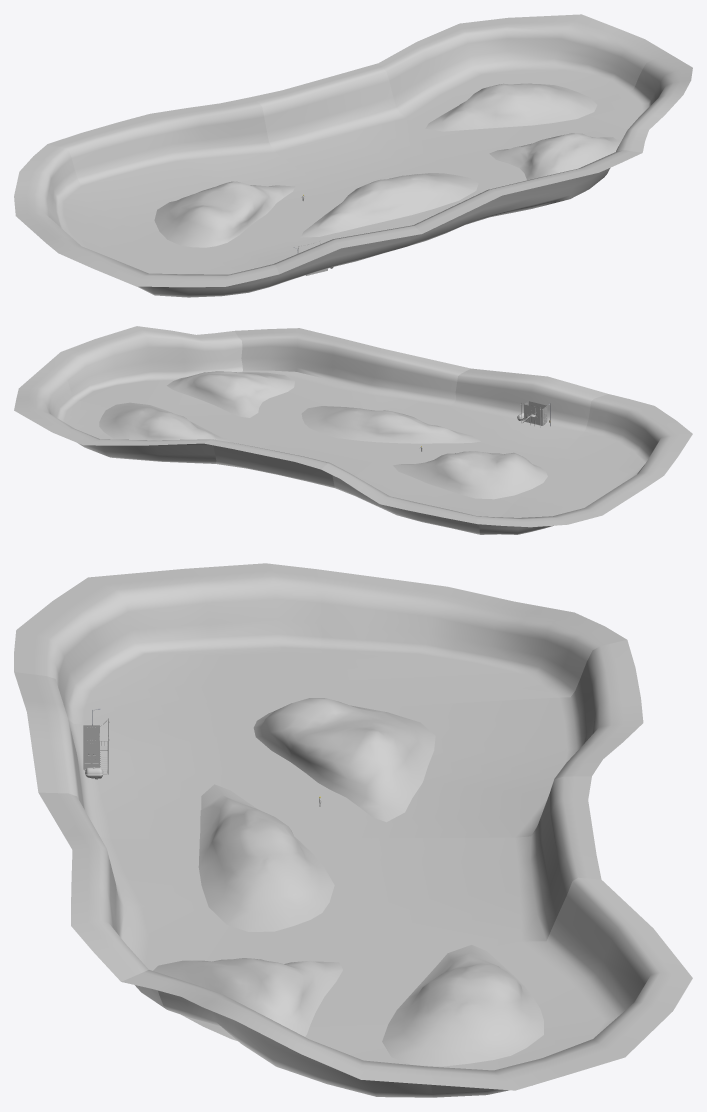
Rendered from Entrenamiento1.fbx.
The picture shows the model from 3 angles, top to bottom: view 1: azimuth 30°, elevation 25°; view 2: azimuth 150°, elevation 25°; view 3: azimuth 270°, elevation 25°; orthographic projection. The views are drawn at different scales.
Visible parts, largest first — view 1: TerrenoTest2, TerrenoTest6, TerrenoTest4, TerrenoTest5, TerrenoTest3, TerrenoTest8, TerrenoTest7, TerrenoTest1, Cumulo4, Cumulo1, Cumulo2, Cumulo3; view 2: TerrenoTest3, TerrenoTest1, TerrenoTest5, TerrenoTest7, TerrenoTest2, TerrenoTest4, TerrenoTest6, Cumulo4, Cumulo1, TerrenoTest8, Cumulo3, Cumulo2; view 3: TerrenoTest7, TerrenoTest8, TerrenoTest4, TerrenoTest2, TerrenoTest6, TerrenoTest5, TerrenoTest3, TerrenoTest1, Cumulo4, Cumulo1, Cumulo2, Cumulo3.
Part boxes in pixels (bbox=[...]): TerrenoTest2: bbox=[378, 14, 668, 147]; TerrenoTest6: bbox=[48, 97, 330, 227]; TerrenoTest4: bbox=[250, 63, 504, 192]; TerrenoTest5: bbox=[194, 193, 421, 287]; TerrenoTest3: bbox=[331, 147, 641, 246]; TerrenoTest8: bbox=[14, 144, 158, 253]; TerrenoTest7: bbox=[46, 231, 278, 297]; TerrenoTest1: bbox=[505, 53, 692, 152]; Cumulo4: bbox=[154, 181, 295, 247]; Cumulo1: bbox=[300, 173, 478, 237]; Cumulo2: bbox=[425, 83, 597, 131]; Cumulo3: bbox=[489, 133, 620, 180]; TerrenoTest3: bbox=[232, 328, 470, 450]; TerrenoTest1: bbox=[40, 326, 242, 417]; TerrenoTest5: bbox=[388, 368, 607, 471]; TerrenoTest7: bbox=[531, 394, 692, 498]; TerrenoTest2: bbox=[14, 370, 231, 463]; TerrenoTest4: bbox=[204, 415, 387, 487]; TerrenoTest6: bbox=[321, 451, 525, 534]; Cumulo4: bbox=[393, 451, 547, 499]; Cumulo1: bbox=[301, 406, 480, 443]; TerrenoTest8: bbox=[477, 483, 646, 534]; Cumulo3: bbox=[167, 371, 294, 417]; Cumulo2: bbox=[99, 402, 230, 442]; TerrenoTest7: bbox=[14, 563, 347, 723]; TerrenoTest8: bbox=[316, 569, 626, 707]; TerrenoTest4: bbox=[336, 776, 601, 976]; TerrenoTest2: bbox=[346, 877, 692, 1097]; TerrenoTest6: bbox=[337, 640, 643, 838]; TerrenoTest5: bbox=[14, 672, 350, 838]; TerrenoTest3: bbox=[38, 792, 353, 1009]; TerrenoTest1: bbox=[121, 970, 436, 1097]; Cumulo4: bbox=[253, 698, 435, 822]; Cumulo1: bbox=[198, 784, 334, 931]; Cumulo2: bbox=[382, 945, 543, 1066]; Cumulo3: bbox=[153, 958, 342, 1040].
Bounding box in the file's own units: 20634 × 1276 × 11393.
